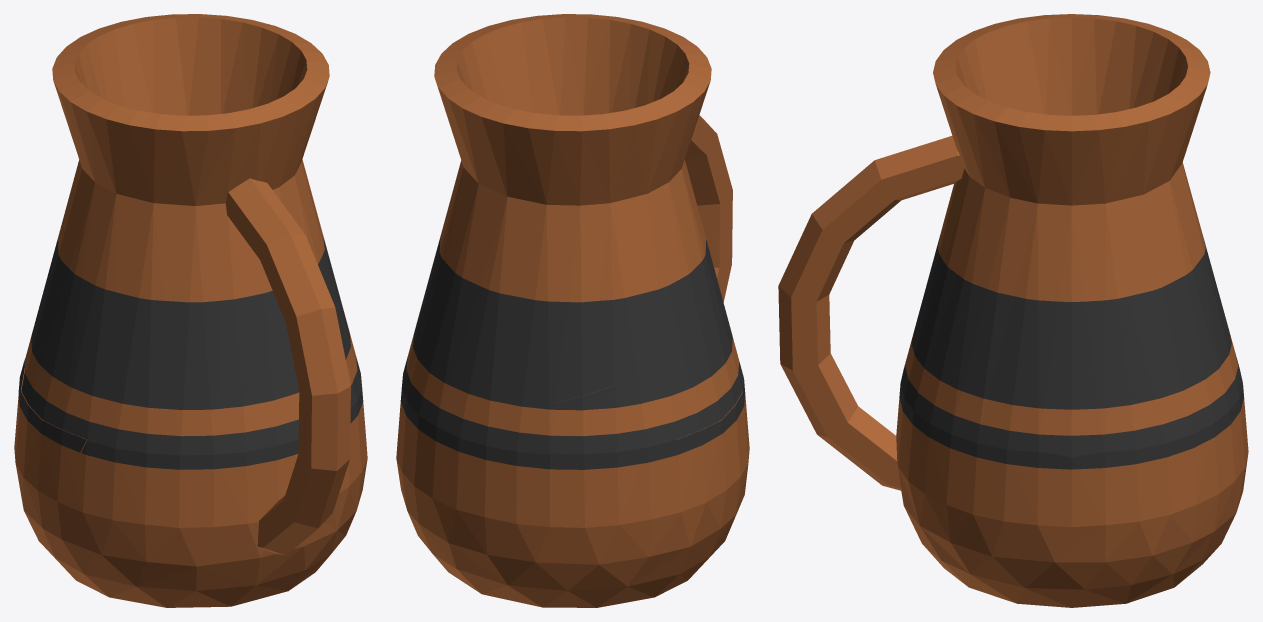
File: Pottery 16_2b.fbx
3 renders of one model, left to right at view 1: azimuth 30°, elevation 25°; view 2: azimuth 150°, elevation 25°; view 3: azimuth 270°, elevation 25°, orthographic.
Visible parts, largest first — view 1: Pottery 16_2b.007, Pottery 16_2b.006, Pottery 16_2b, Pottery 16_2b.004, Pottery 16_2b.003, Pottery 16_2b.001, Pottery 16_2b.005; view 2: Pottery 16_2b.004, Pottery 16_2b.005, Pottery 16_2b.006, Pottery 16_2b.002, Pottery 16_2b.007, Pottery 16_2b, Pottery 16_2b.003, Pottery 16_2b.001; view 3: Pottery 16_2b.003, Pottery 16_2b.001, Pottery 16_2b.007, Pottery 16_2b.004, Pottery 16_2b.002, Pottery 16_2b, Pottery 16_2b.006.
Boxes of the visible parts, <box> form: Pottery 16_2b.007: <box>143,88,350,585</box>; Pottery 16_2b.006: <box>21,73,153,440</box>; Pottery 16_2b: <box>24,366,345,607</box>; Pottery 16_2b.004: <box>52,14,225,250</box>; Pottery 16_2b.003: <box>221,16,328,113</box>; Pottery 16_2b.001: <box>294,60,367,535</box>; Pottery 16_2b.005: <box>14,344,86,527</box>; Pottery 16_2b.004: <box>434,79,657,415</box>; Pottery 16_2b.005: <box>487,385,742,564</box>; Pottery 16_2b.006: <box>615,58,742,439</box>; Pottery 16_2b.002: <box>396,291,555,554</box>; Pottery 16_2b.007: <box>560,14,732,301</box>; Pottery 16_2b: <box>407,331,749,607</box>; Pottery 16_2b.003: <box>396,26,511,456</box>; Pottery 16_2b.001: <box>489,14,565,115</box>; Pottery 16_2b.003: <box>1004,101,1191,562</box>; Pottery 16_2b.001: <box>908,94,1037,574</box>; Pottery 16_2b.007: <box>778,27,1012,504</box>; Pottery 16_2b.004: <box>1099,18,1235,356</box>; Pottery 16_2b.002: <box>1153,321,1248,555</box>; Pottery 16_2b: <box>903,482,1235,607</box>; Pottery 16_2b.006: <box>984,14,1124,115</box>.
Bounding box in the file's own units: 30.34 × 45.97 × 40.35.
